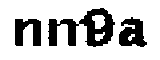9: (82, 8, 114, 51)
a: (118, 18, 147, 49)
m: (47, 17, 96, 50)
n: (8, 13, 43, 50)
